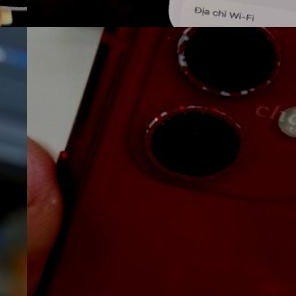scratch: (122, 27, 296, 202)
